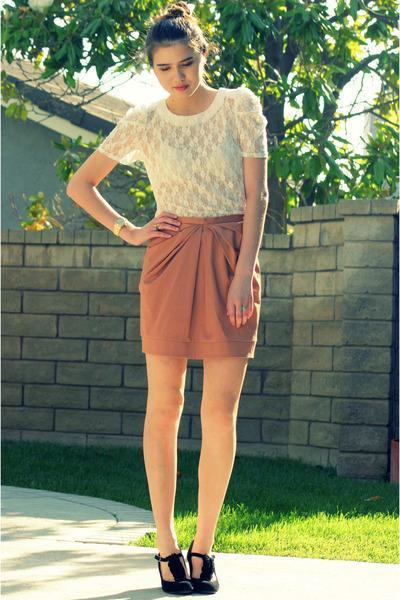shirt: (84, 84, 269, 216)
shoe: (156, 540, 215, 595)
skirt: (139, 213, 260, 371)
